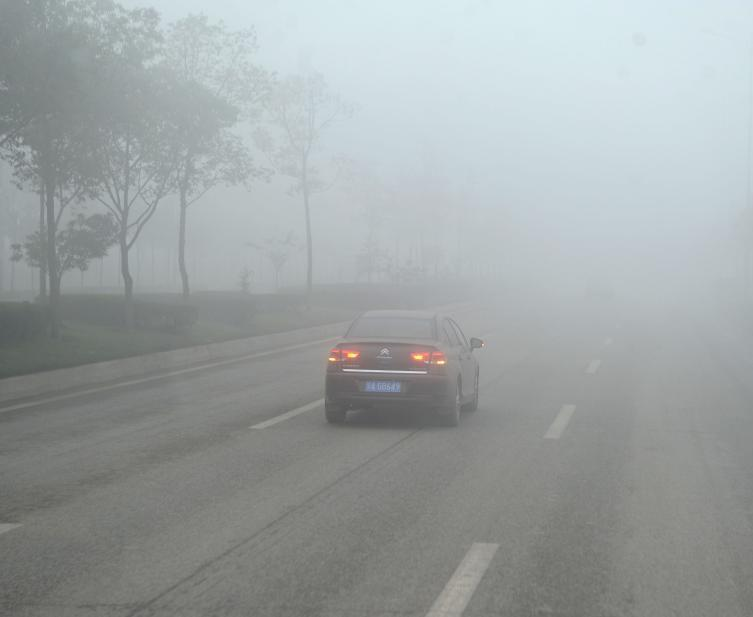car: (324, 307, 485, 425)
